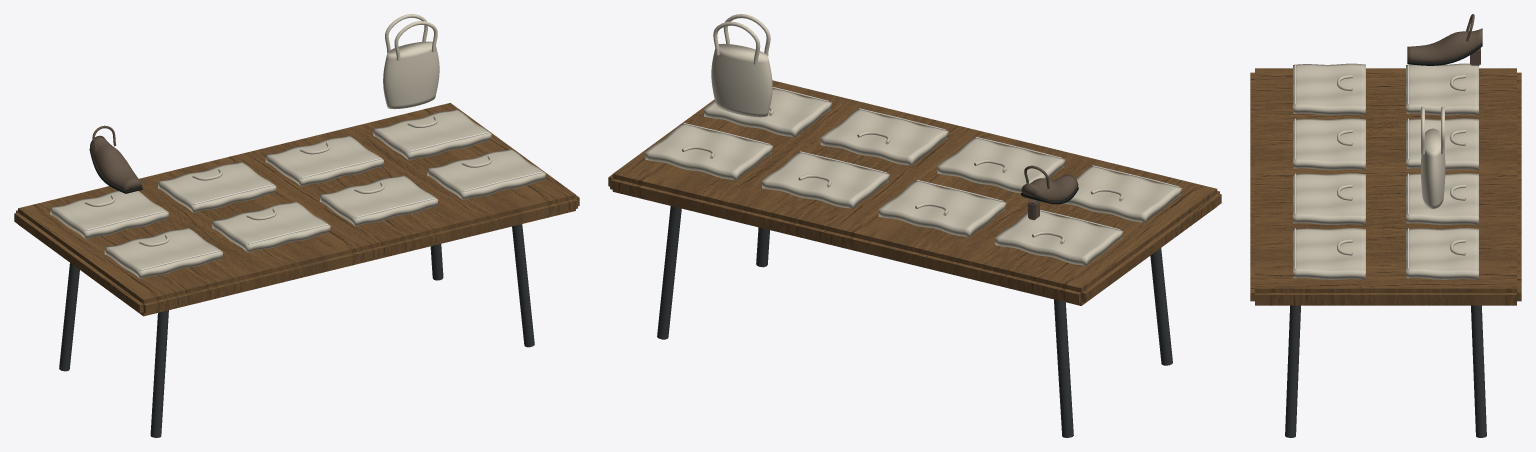
Rendered from fashion_table.glb.
3 views of the same model, side by side, from view 1: azimuth 30°, elevation 25°; view 2: azimuth 150°, elevation 25°; view 3: azimuth 270°, elevation 25° (orthographic). The views are drawn at different scales.
Visible parts, largest first — view 1: fashion_table_CC0_Oak_veneer, fashion_table_Anodised_graphite, fashion_table_V23_natural_canvas, fashion_table_Woven_1.014, fashion_table_Woven_1.015, fashion_table_Woven_1.016, fashion_table_Woven_1.009, fashion_table_Woven_1.011, fashion_table_Woven_1.012, fashion_table_Woven_1.013, fashion_table_Woven_1.010, fashion_table_V23_smooth_leather; view 2: fashion_table_CC0_Oak_veneer, fashion_table_Anodised_graphite, fashion_table_V23_natural_canvas, fashion_table_Woven_1.013, fashion_table_Woven_1.012, fashion_table_Woven_1.014, fashion_table_Woven_1.016, fashion_table_Woven_1.010, fashion_table_Woven_1.011, fashion_table_Woven_1.009, fashion_table_Woven_1.015, fashion_table_V23_smooth_leather; view 3: fashion_table_CC0_Oak_veneer, fashion_table_Woven_1.013, fashion_table_Woven_1.009, fashion_table_Woven_1.011, fashion_table_Woven_1.015, fashion_table_Woven_1.016, fashion_table_Woven_1.010, fashion_table_Anodised_graphite, fashion_table_Woven_1.014, fashion_table_Woven_1.012, fashion_table_V23_natural_canvas, fashion_table_V23_smooth_leather (+1 smaller).
Boxes of the visible parts, x1,y1,x2,y2 form: fashion_table_CC0_Oak_veneer: [14, 103, 579, 316]; fashion_table_Anodised_graphite: [59, 224, 534, 437]; fashion_table_V23_natural_canvas: [383, 14, 439, 109]; fashion_table_Woven_1.014: [265, 135, 383, 186]; fashion_table_Woven_1.015: [427, 149, 545, 200]; fashion_table_Woven_1.016: [373, 109, 491, 160]; fashion_table_Woven_1.009: [104, 228, 222, 278]; fashion_table_Woven_1.011: [212, 201, 330, 252]; fashion_table_Woven_1.012: [158, 162, 276, 212]; fashion_table_Woven_1.013: [319, 175, 438, 226]; fashion_table_Woven_1.010: [50, 190, 168, 239]; fashion_table_V23_smooth_leather: [90, 125, 142, 191]; fashion_table_CC0_Oak_veneer: [608, 80, 1221, 305]; fashion_table_Anodised_graphite: [657, 206, 1172, 437]; fashion_table_V23_natural_canvas: [711, 14, 772, 117]; fashion_table_Woven_1.013: [820, 109, 948, 165]; fashion_table_Woven_1.012: [878, 180, 1006, 237]; fashion_table_Woven_1.014: [761, 152, 889, 208]; fashion_table_Woven_1.016: [645, 123, 772, 180]; fashion_table_Woven_1.010: [995, 211, 1123, 265]; fashion_table_Woven_1.011: [937, 137, 1065, 193]; fashion_table_Woven_1.009: [1063, 166, 1181, 222]; fashion_table_Woven_1.015: [704, 89, 831, 137]; fashion_table_V23_smooth_leather: [1021, 165, 1078, 220]; fashion_table_CC0_Oak_veneer: [1250, 68, 1521, 305]; fashion_table_Woven_1.013: [1293, 173, 1365, 224]; fashion_table_Woven_1.009: [1293, 63, 1365, 115]; fashion_table_Woven_1.011: [1293, 118, 1365, 170]; fashion_table_Woven_1.015: [1293, 228, 1365, 279]; fashion_table_Woven_1.016: [1406, 228, 1478, 279]; fashion_table_Woven_1.010: [1406, 63, 1478, 115]; fashion_table_Anodised_graphite: [1285, 305, 1486, 437]; fashion_table_Woven_1.014: [1406, 173, 1478, 224]; fashion_table_Woven_1.012: [1406, 118, 1478, 170]; fashion_table_V23_natural_canvas: [1421, 106, 1445, 208]; fashion_table_V23_smooth_leather: [1407, 14, 1482, 65].
Bounding box in the file's own units: 2.25 × 1.41 × 1.15.
Materials: 21 (1 with a texture image).
